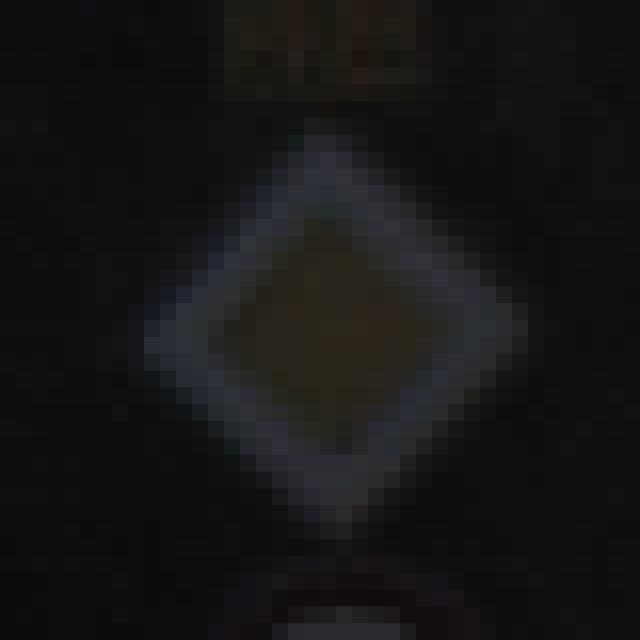Main Road: (81, 85, 561, 557)
